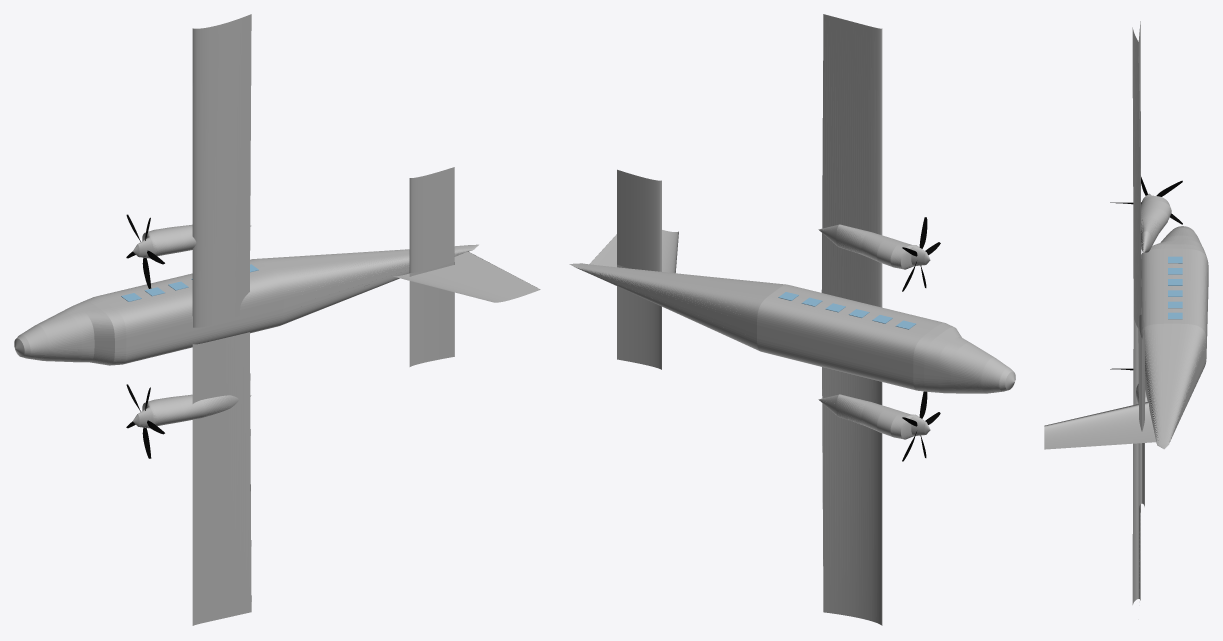
Rendered from Twin_Otter_all_electric.gltf.
The picture shows the model from 3 angles, left to right: view 1: azimuth 30°, elevation 25°; view 2: azimuth 150°, elevation 25°; view 3: azimuth 270°, elevation 25°; orthographic projection. The views are drawn at different scales.
Visible parts, largest first — view 1: Renderer Node; view 2: Renderer Node; view 3: Renderer Node.
Part boxes in pixels (x1,y1,x2,y2): Renderer Node: (14, 14, 540, 625); Renderer Node: (569, 14, 1015, 625); Renderer Node: (1044, 21, 1208, 604).
Size of the model in its own units: 15.77 by 19.81 by 5.05.
